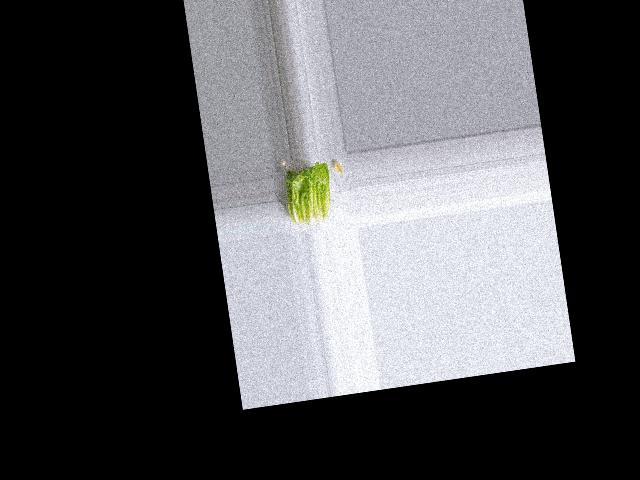lettuce: (280, 159, 338, 227)
